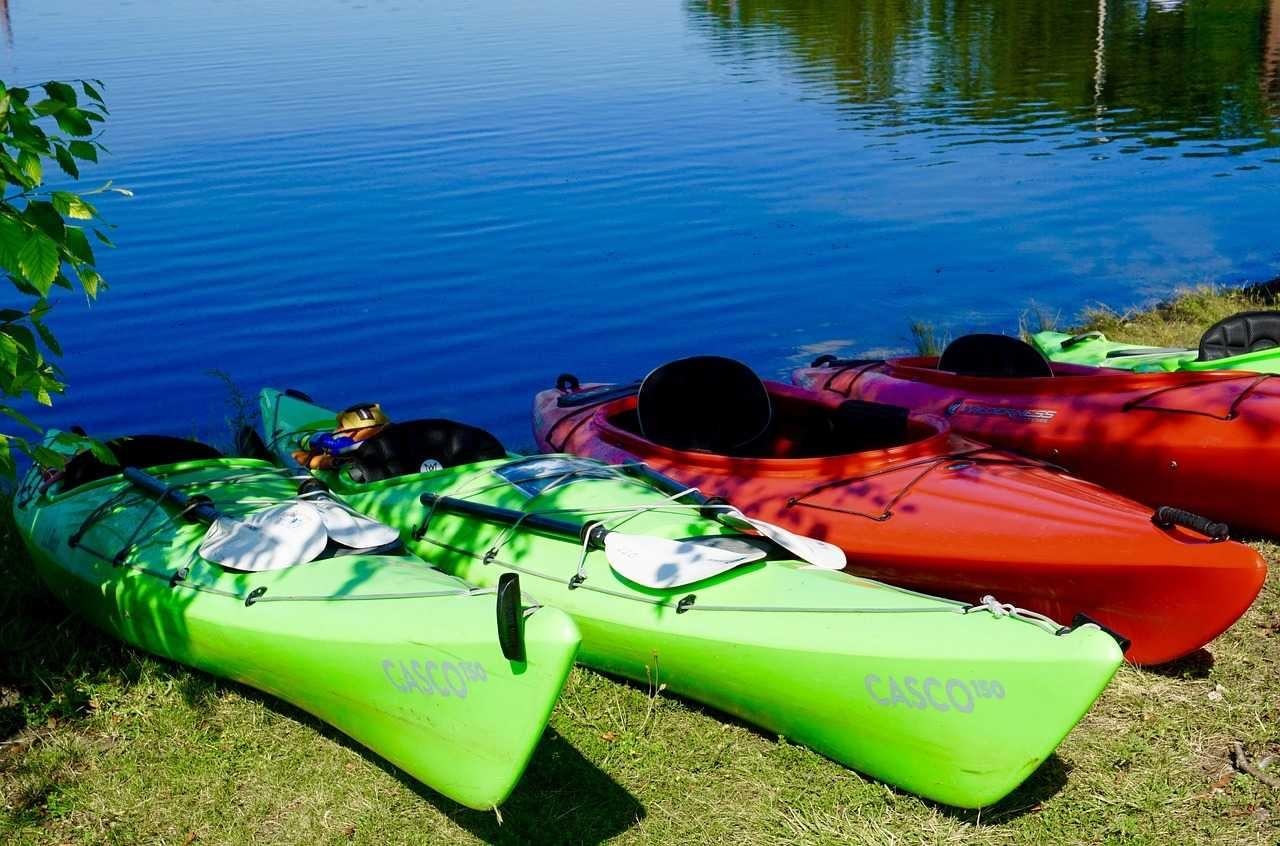kayak: (259, 383, 1122, 814), (537, 352, 1265, 667), (11, 432, 582, 812), (796, 344, 1278, 537), (1017, 303, 1278, 375)
